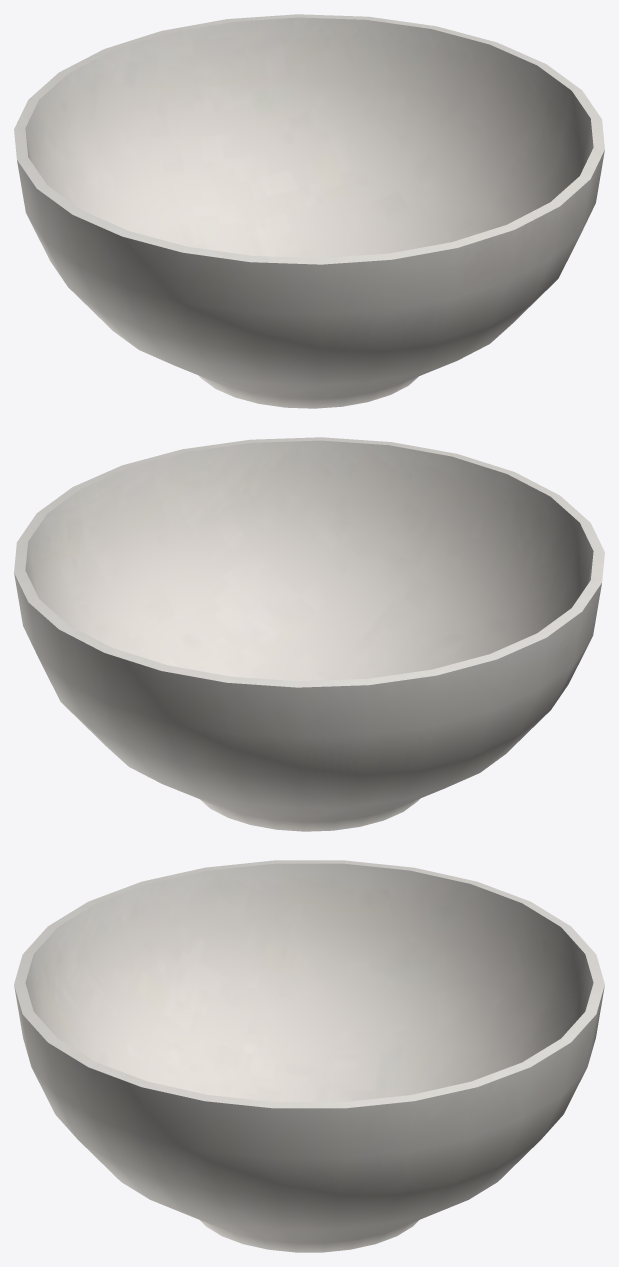
File: T_Kitchen_Bowl_02.glb
3 views of the same model, one above another, from view 1: azimuth 30°, elevation 25°; view 2: azimuth 150°, elevation 25°; view 3: azimuth 270°, elevation 25° (orthographic).
Parts seen in each view (by area): view 1: T_Kitchen_Bowl_02; view 2: T_Kitchen_Bowl_02; view 3: T_Kitchen_Bowl_02.
Part boxes in pixels (x1,y1,x2,y2): T_Kitchen_Bowl_02: (14, 14, 604, 408); T_Kitchen_Bowl_02: (14, 437, 604, 831); T_Kitchen_Bowl_02: (14, 860, 604, 1252).
Size of the model in its own units: 0.1789 by 0.0742 by 0.1802.
Materials: 1 (1 with a texture image).
